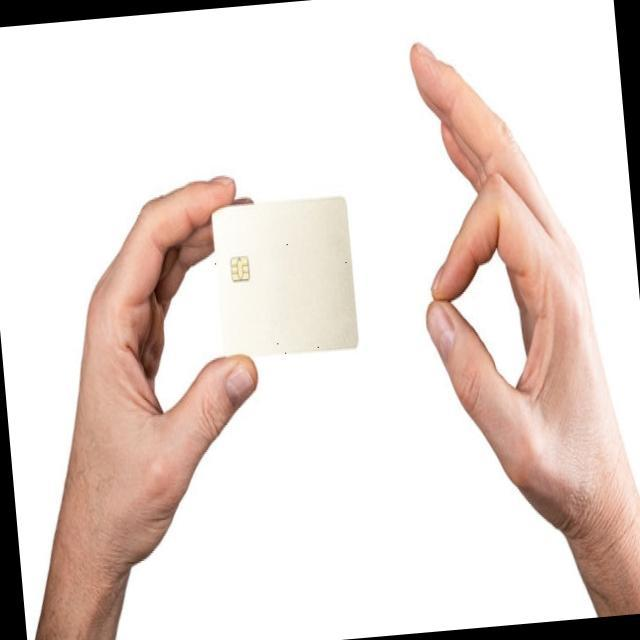payment_card: (209, 194, 359, 357)
